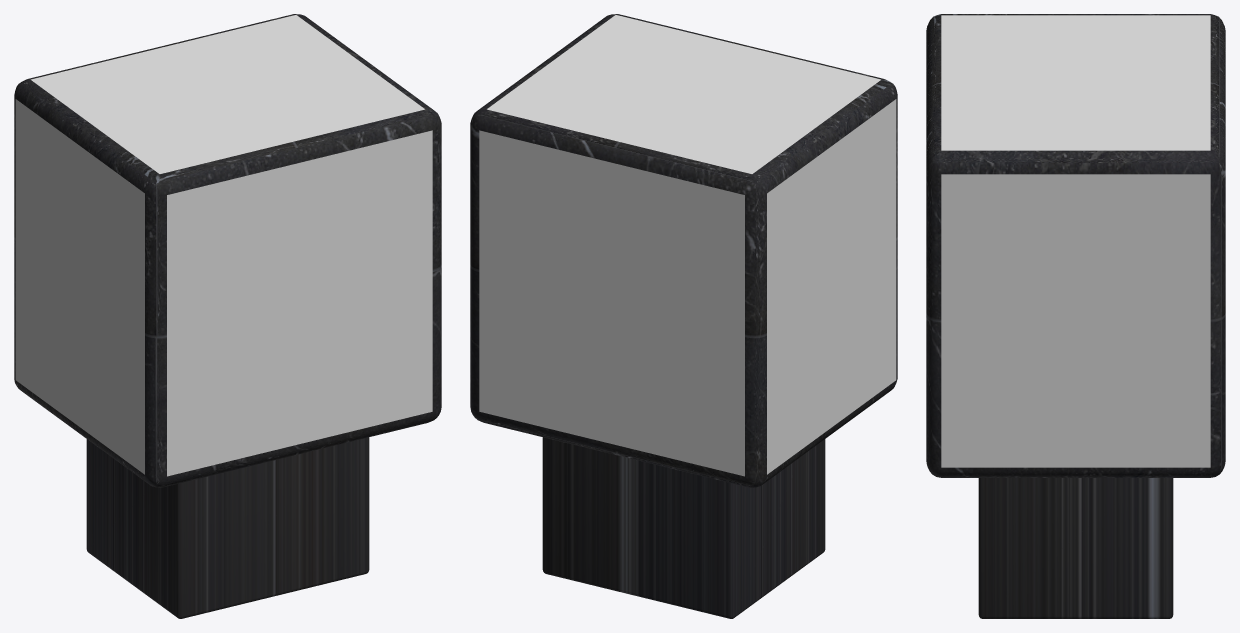
The model's file is 玻璃柜台.fbx.
The picture shows the model from 3 angles, left to right: view 1: azimuth 30°, elevation 25°; view 2: azimuth 150°, elevation 25°; view 3: azimuth 270°, elevation 25°; orthographic projection. The views are drawn at different scales.
Visible parts, largest first — view 1: 玻璃, 柜台; view 2: 玻璃, 柜台; view 3: 玻璃, 柜台.
Boxes of the visible parts, <box> form: 玻璃: <box>15,15,432,476</box>; 柜台: <box>14,14,441,618</box>; 玻璃: <box>479,15,896,476</box>; 柜台: <box>470,14,897,618</box>; 玻璃: <box>941,15,1210,467</box>; 柜台: <box>926,14,1225,618</box>.
Bounding box in the file's own units: 297 × 457 × 250.
Materials: 2 (1 with a texture image).
